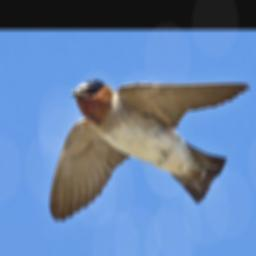Swallow: (46, 80, 253, 224)
